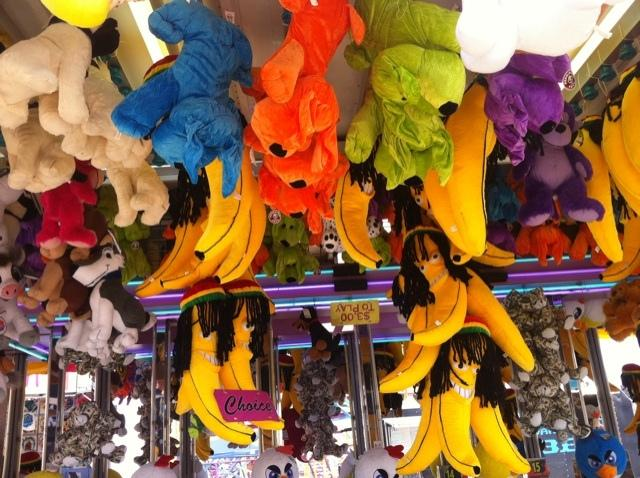banana: (423, 76, 497, 256), (183, 306, 257, 445), (218, 297, 284, 431), (572, 116, 624, 264), (466, 268, 536, 373), (194, 146, 256, 262), (334, 134, 384, 270), (134, 207, 208, 298), (410, 233, 468, 346), (434, 346, 482, 478), (214, 175, 266, 284), (379, 302, 441, 392), (396, 371, 442, 475), (470, 396, 531, 474), (160, 241, 233, 290), (603, 106, 640, 200), (620, 76, 638, 174), (472, 240, 518, 266), (175, 383, 192, 415)
